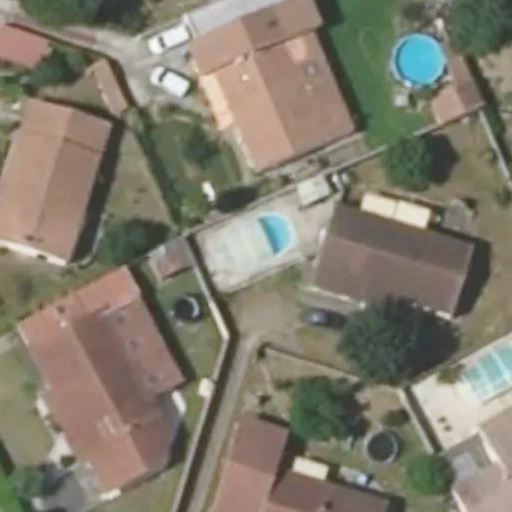pool: (214, 241, 297, 243)
